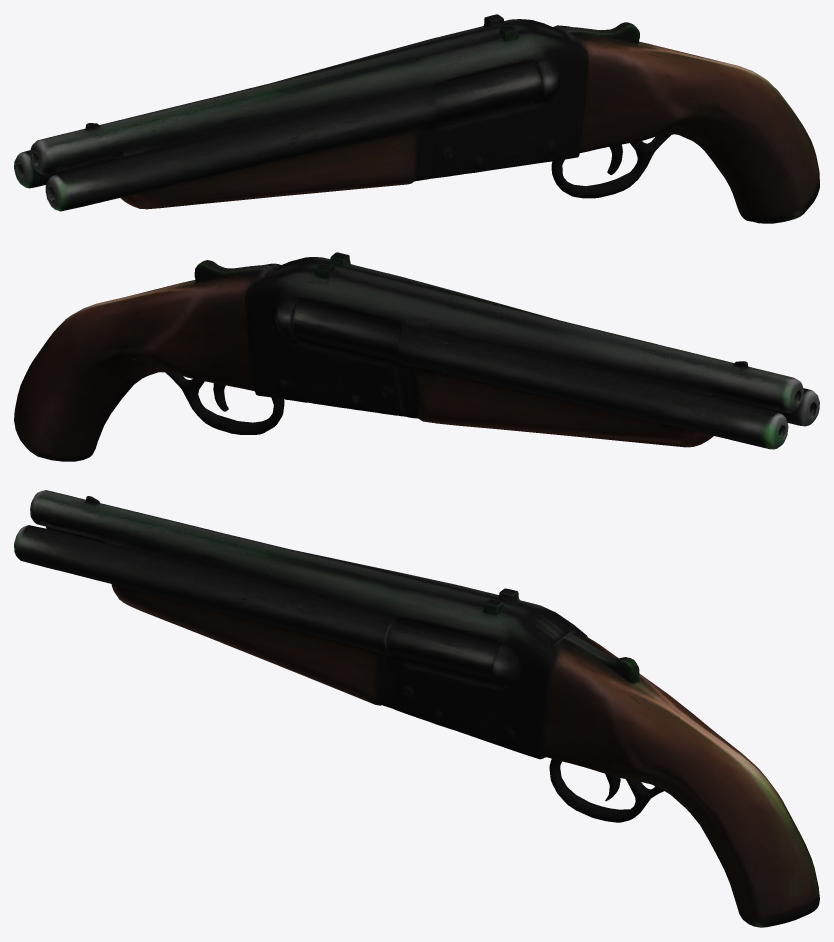
The model's file is sawed_off.glb.
The picture shows the model from 3 angles, top to bottom: view 1: azimuth 30°, elevation 25°; view 2: azimuth 150°, elevation 25°; view 3: azimuth 330°, elevation 25°; orthographic projection.
Bounding box in the file's own units: 1.9 × 0.5986 × 0.2213.
Materials: 1 (1 with a texture image).
